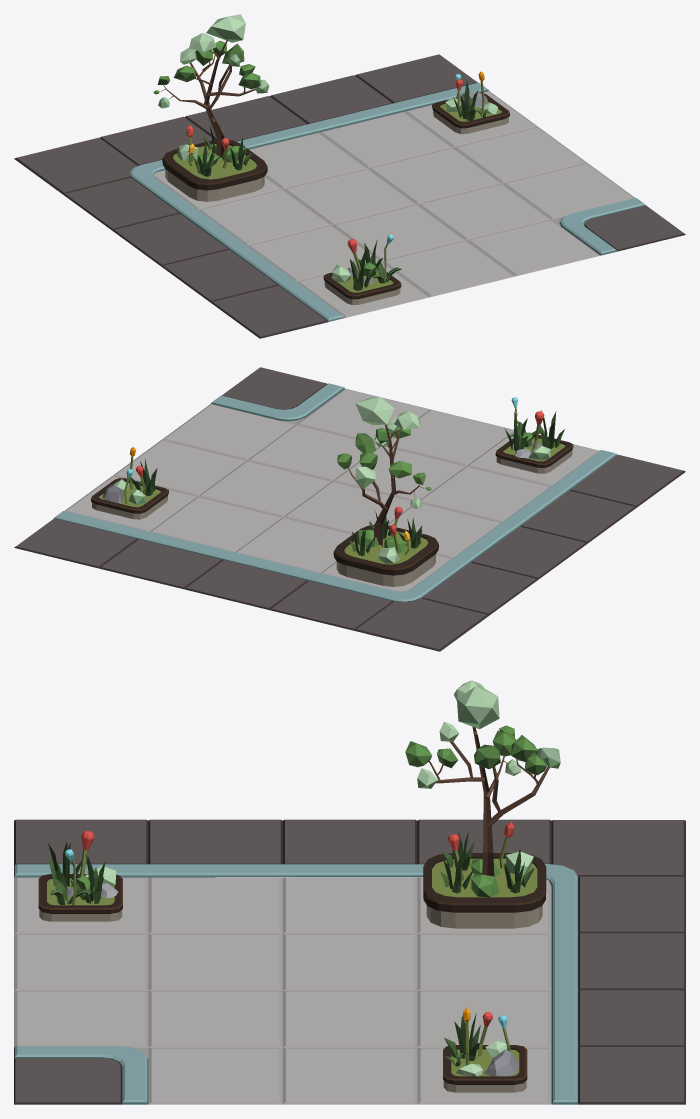
The model's file is Corner_A.glb.
3 renders of one model, top to bottom at view 1: azimuth 30°, elevation 25°; view 2: azimuth 150°, elevation 25°; view 3: azimuth 270°, elevation 25°, orthographic. The views are drawn at different scales.
Visible parts, largest first — view 1: Corner_A, Tree_01.015, Cube.266, Cube.263, Cube.262; view 2: Corner_A, Tree_01.015, Cube.266, Cube.262, Cube.263; view 3: Corner_A, Tree_01.015, Cube.266, Cube.262, Cube.263, Grass_03.611, Grass_03.612, Rock_08.075.
Boxes of the visible parts, x1=… form: Corner_A: x1=14, y1=54, x2=685, y2=338; Tree_01.015: x1=154, y1=14, x2=269, y2=157; Cube.266: x1=162, y1=140, x2=267, y2=201; Cube.263: x1=323, y1=268, x2=401, y2=304; Cube.262: x1=432, y1=92, x2=509, y2=134; Corner_A: x1=14, y1=367, x2=685, y2=651; Tree_01.015: x1=337, y1=396, x2=431, y2=546; Cube.266: x1=333, y1=525, x2=438, y2=586; Cube.262: x1=91, y1=478, x2=168, y2=519; Cube.263: x1=495, y1=432, x2=573, y2=473; Corner_A: x1=14, y1=819, x2=685, y2=1104; Tree_01.015: x1=405, y1=680, x2=560, y2=876; Cube.266: x1=423, y1=853, x2=546, y2=928; Cube.262: x1=443, y1=1045, x2=527, y2=1092; Cube.263: x1=38, y1=874, x2=122, y2=921; Grass_03.611: x1=444, y1=1013, x2=480, y2=1060; Grass_03.612: x1=48, y1=841, x2=81, y2=889; Rock_08.075: x1=484, y1=1049, x2=518, y2=1076.
Size of what is drawn, in the model's own units: 16 by 5.98 by 16.
Materials: 1 (1 with a texture image).
